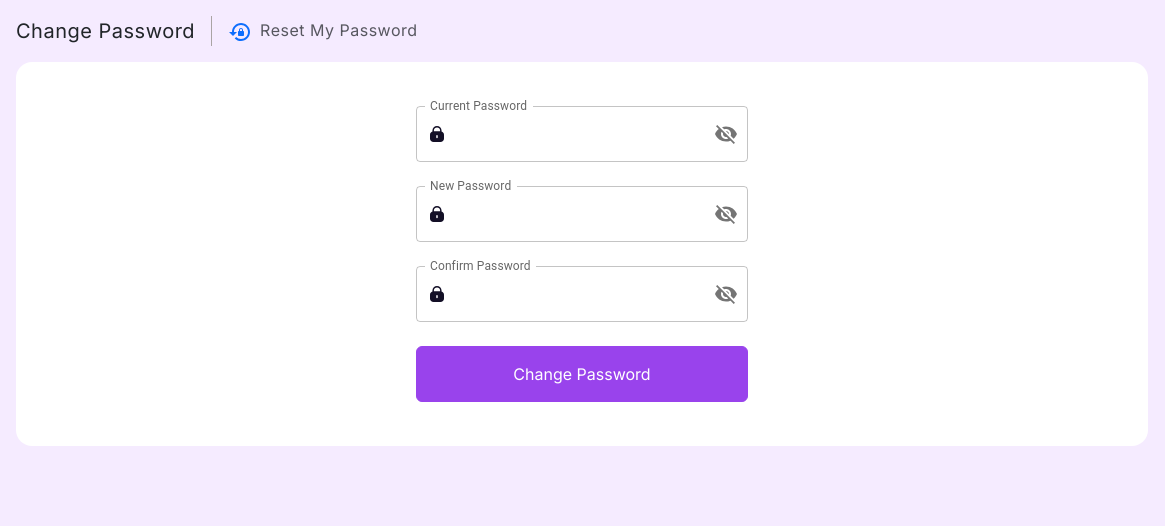
Test: UserChangePassword Component › displays validation errors when form fields are empty
What coordinates should you click on to do the following:
click the button "Change Password"
I would click on:
 (582, 374)
Its box is [416,346,748,402].
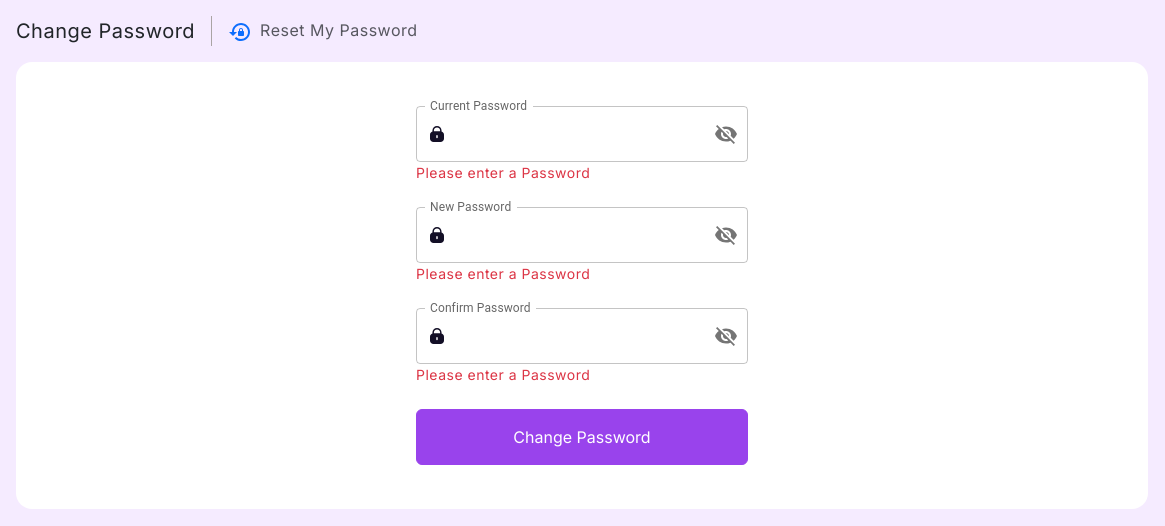
Check: the text "Please enter a Password" below "Current Password" is shown, box [416,164,590,181]
